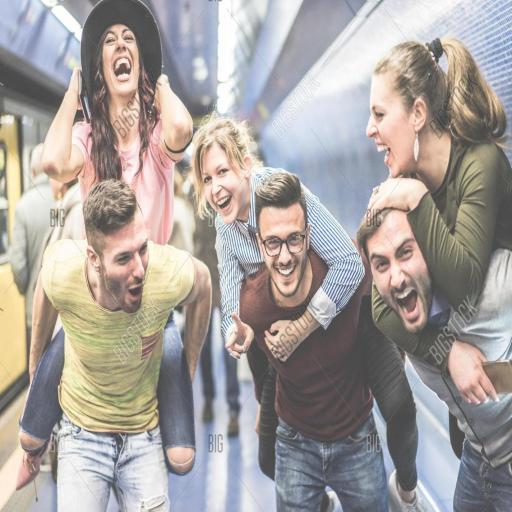person: (33, 179, 210, 511), (235, 173, 388, 511), (367, 38, 511, 310), (43, 0, 192, 244), (358, 209, 511, 372), (192, 115, 282, 358), (10, 144, 54, 339), (195, 212, 220, 312)
